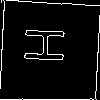H: (24, 26, 75, 64)
